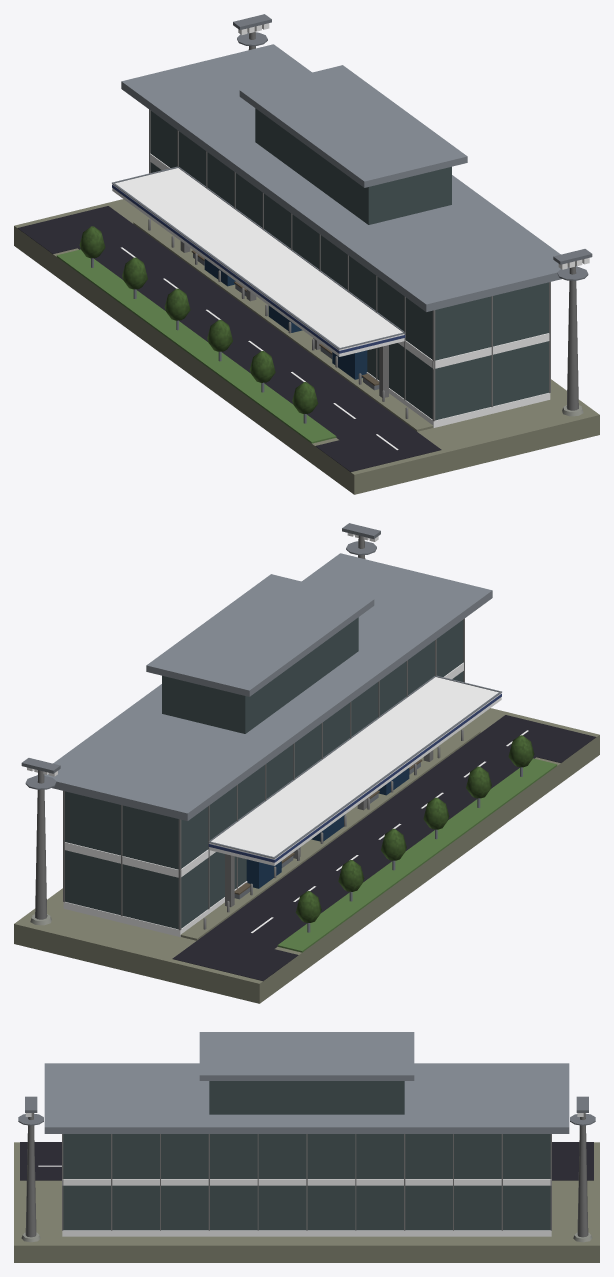
File: port_building_close.fbx
3 views of the same model, one above another, from view 1: azimuth 30°, elevation 25°; view 2: azimuth 150°, elevation 25°; view 3: azimuth 270°, elevation 25° (orthographic). The views are drawn at different scales.
Visible parts, largest first — view 1: a1068_0_port_building_close; view 2: a1068_0_port_building_close; view 3: a1068_0_port_building_close.
Boxes of the visible parts, <box> form: a1068_0_port_building_close: <box>14,14,599,494</box>; a1068_0_port_building_close: <box>14,523,599,1003</box>; a1068_0_port_building_close: <box>14,1032,599,1262</box>.
Bounding box in the file's own units: 20 × 16 × 48.
